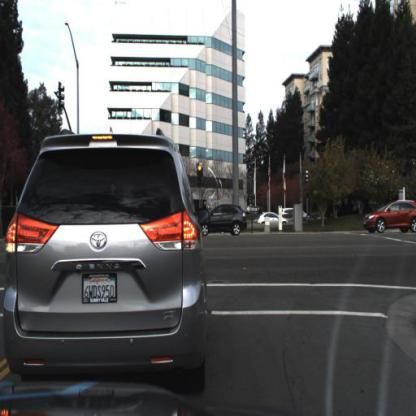car: (1, 127, 216, 398), (360, 194, 416, 240), (199, 202, 249, 241), (257, 211, 289, 230)
trafficLight-Red: (198, 164, 205, 181)
